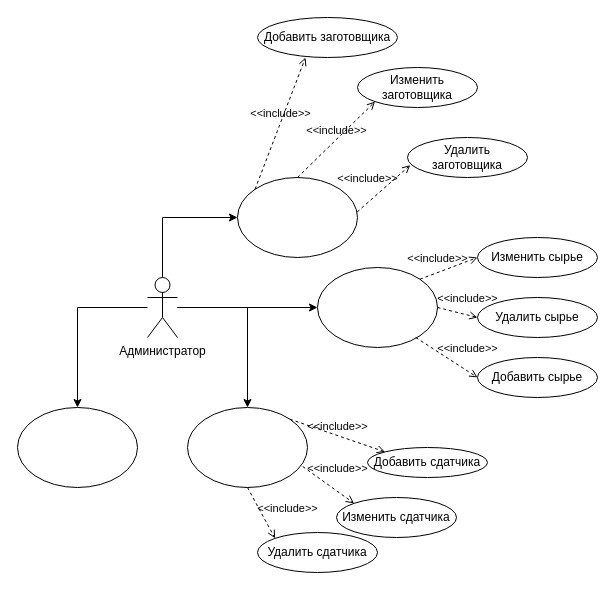
Some shapes in this 615 by 590 pixel diagram are drawn without their labels. Here are the shapes that lost their labels. From the top down, the box of each, then its label:
(236, 176, 358, 258): Управлять заготовщиками
(316, 266, 438, 348): Управлять сырьем
(16, 406, 138, 488): Создать отчет
(186, 406, 308, 488): Управлять сдатчикам
